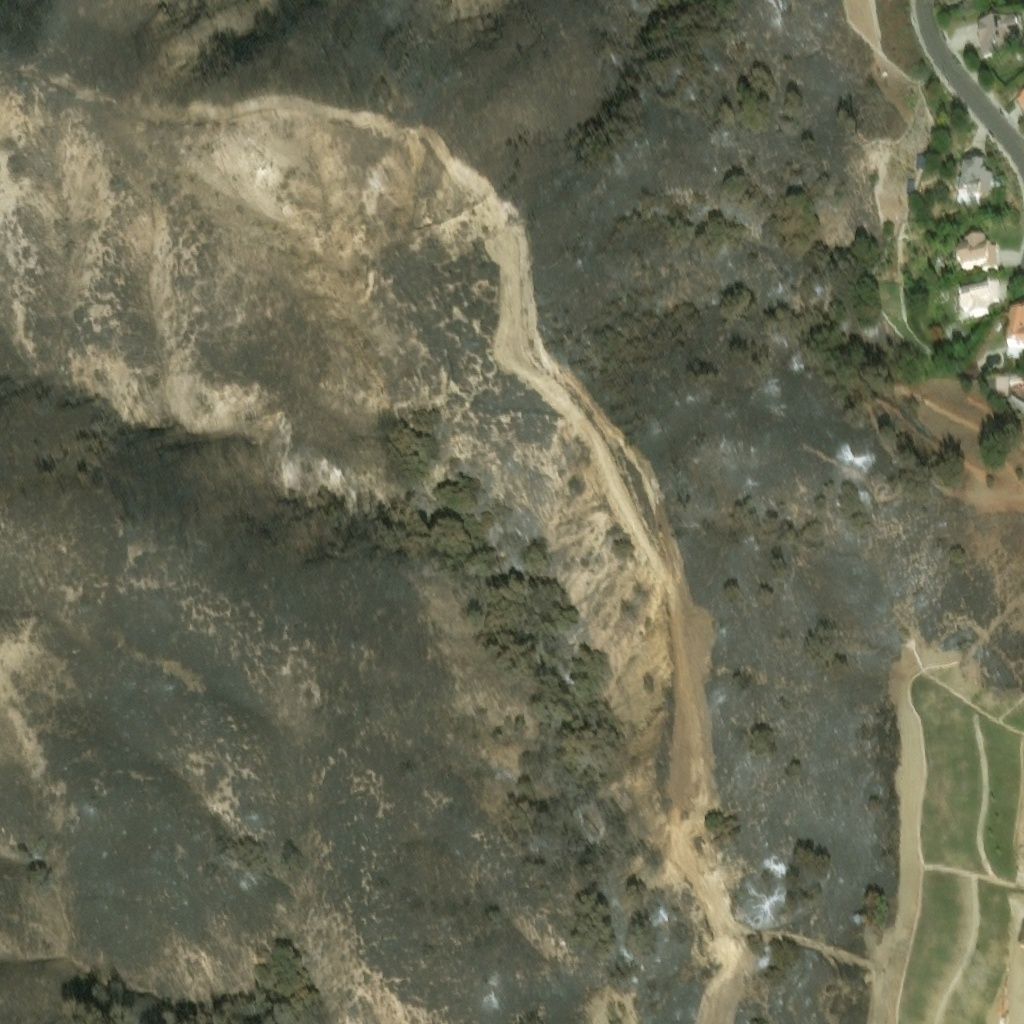0 no-damage: (952, 271, 1010, 311), (953, 146, 992, 202), (978, 19, 1023, 58), (952, 229, 998, 264), (1003, 304, 1023, 357), (1004, 387, 1023, 407), (993, 371, 1007, 389), (1015, 916, 1023, 941), (905, 172, 913, 190), (913, 149, 922, 164), (996, 1009, 1007, 1020), (852, 910, 860, 921)
